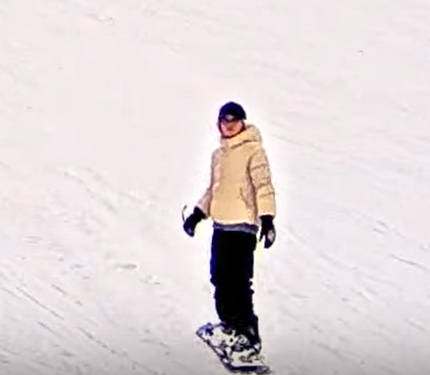snowboarder: (181, 100, 276, 375)
